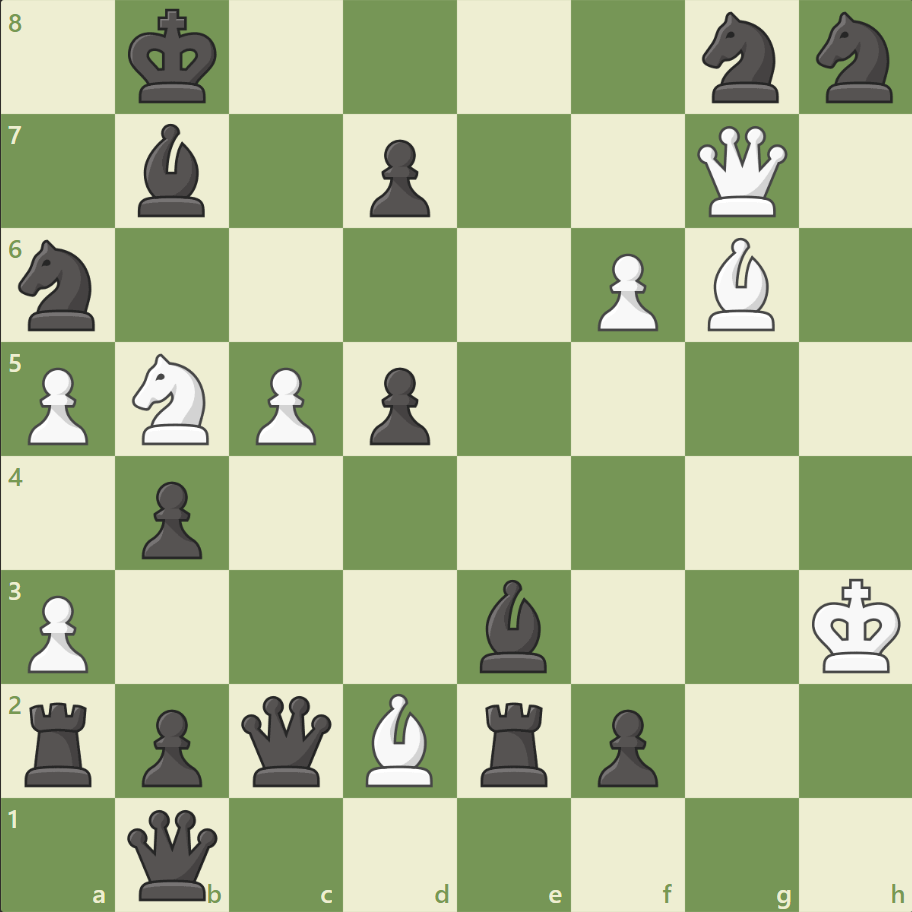B: (698, 233, 782, 336), (358, 687, 442, 790)
K: (806, 571, 906, 679)
N: (124, 348, 222, 450)
P: (20, 359, 95, 450), (247, 359, 322, 450), (20, 586, 95, 677), (588, 246, 662, 337)
Q: (691, 122, 790, 222)
b: (131, 120, 215, 222), (471, 574, 555, 676)
k: (124, 4, 224, 112)
n: (692, 7, 789, 110), (806, 7, 903, 110), (11, 234, 108, 337)
p: (133, 473, 208, 564), (133, 700, 208, 791), (361, 132, 435, 223), (361, 359, 435, 450), (588, 700, 662, 791)
q: (237, 690, 336, 789), (124, 804, 223, 903)
r: (19, 693, 102, 790), (473, 693, 556, 790)
